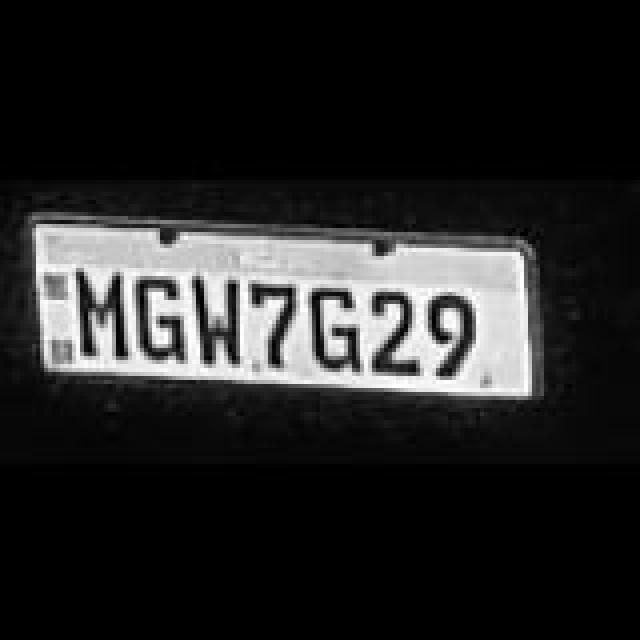2: (364, 288, 436, 376)
7: (244, 280, 316, 368)
9: (418, 288, 486, 376)
G: (298, 284, 374, 372), (124, 272, 196, 360)
M: (62, 266, 146, 358)
W: (184, 274, 256, 366)
